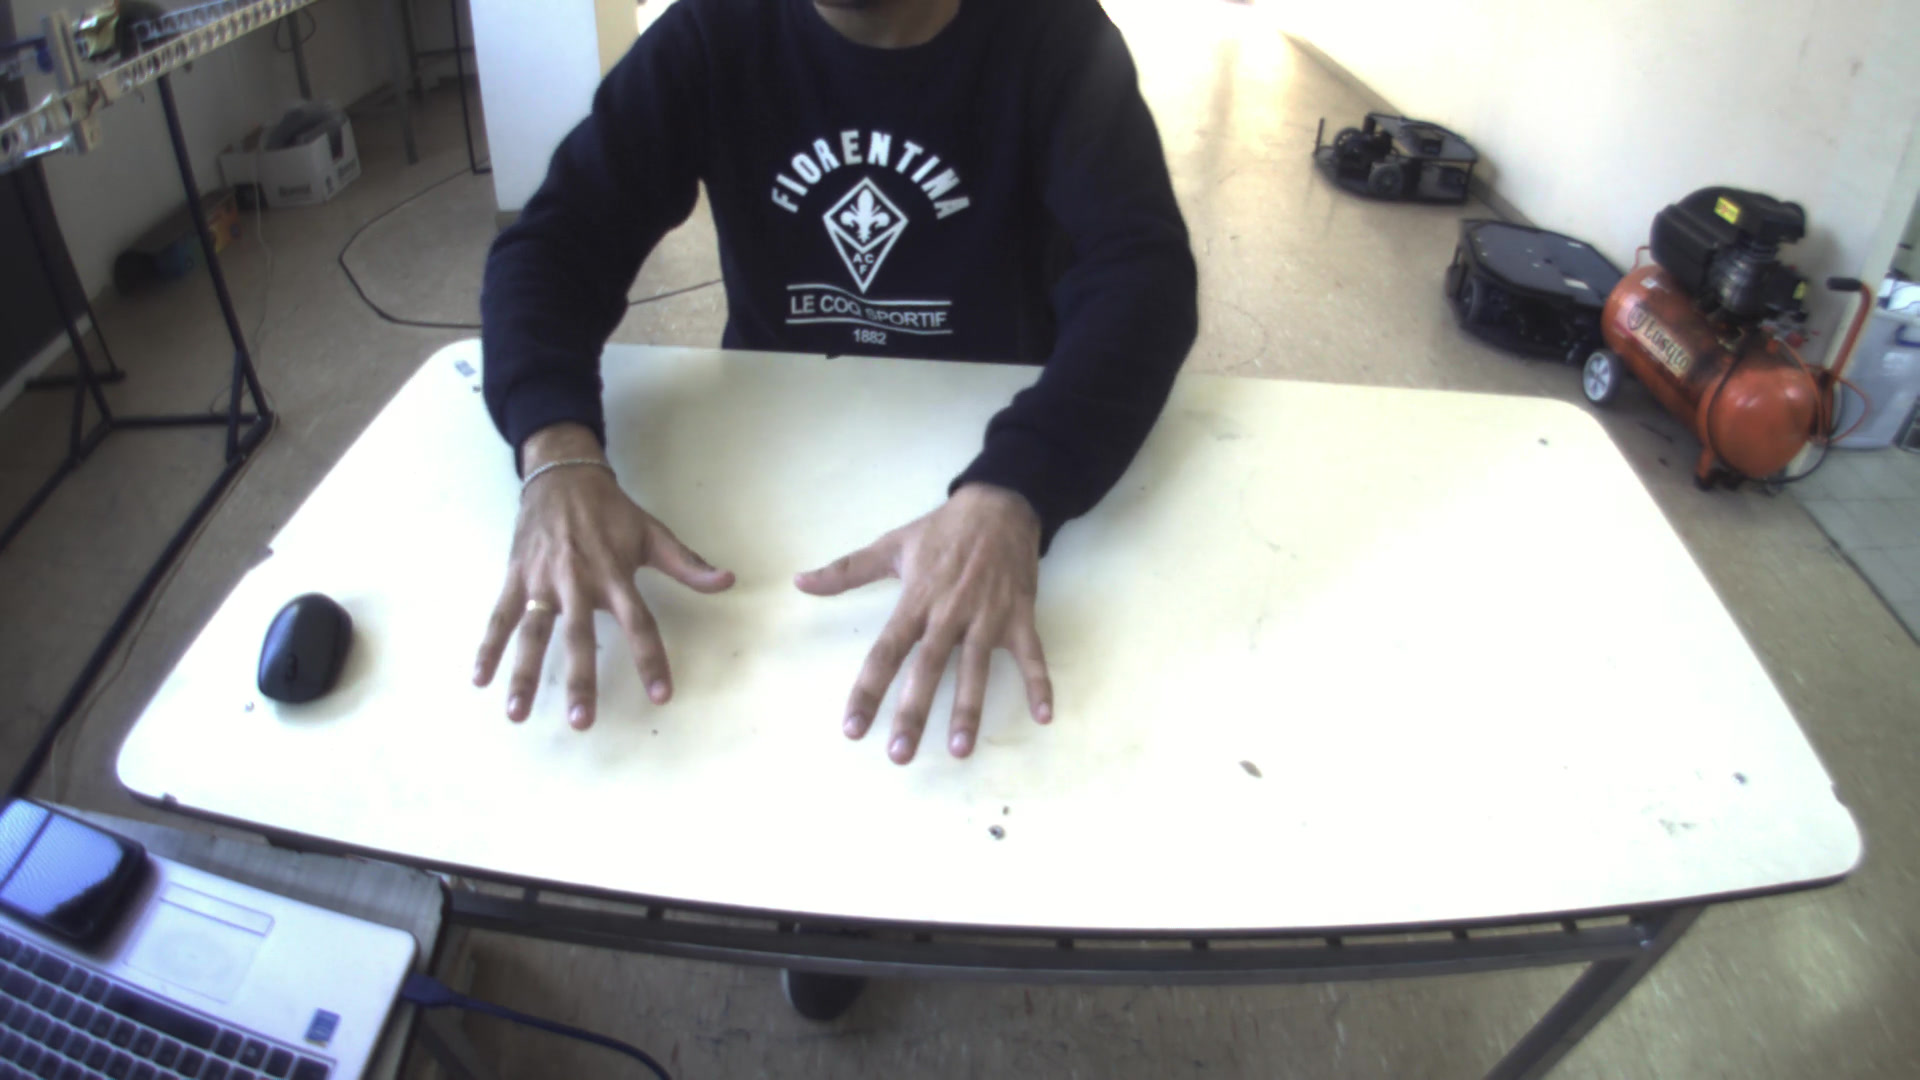hand: (455, 444, 740, 733), (795, 481, 1073, 767)
